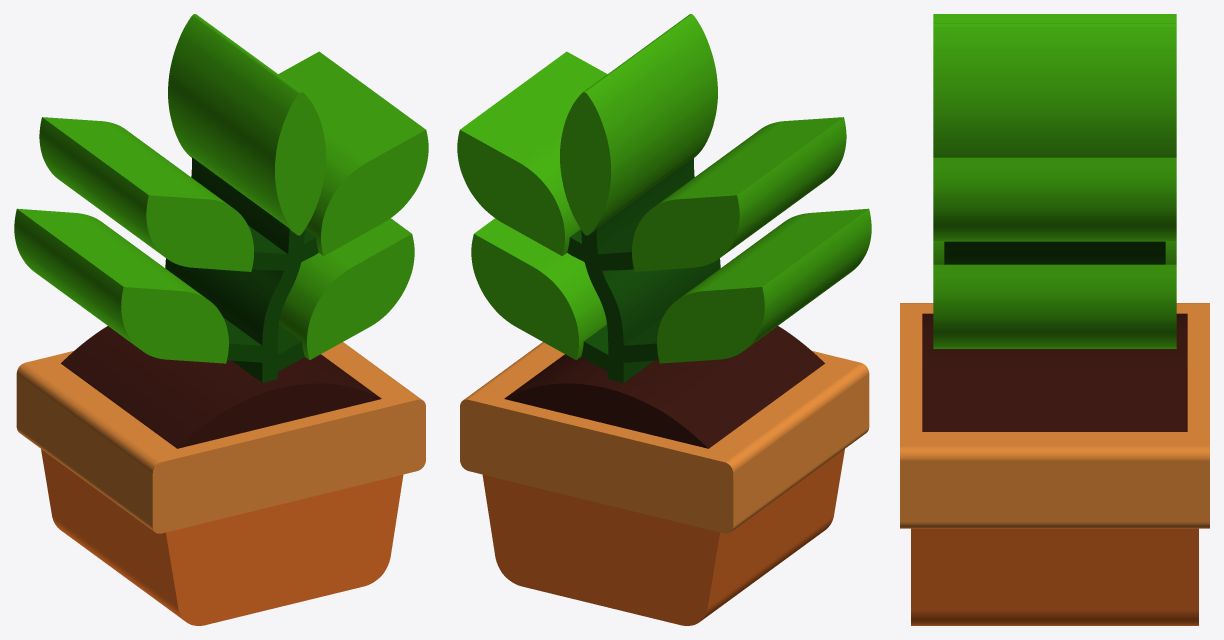
Rendered from U+1FAB4.obj.
3 views of the same model, side by side, from view 1: azimuth 30°, elevation 25°; view 2: azimuth 150°, elevation 25°; view 3: azimuth 270°, elevation 25° (orthographic). The views are drawn at different scales.
Visible parts, largest first — view 1: U+1FAB4_layer01_obj00, U+1FAB4_layer04_obj00, U+1FAB4_layer03_obj00, U+1FAB4_layer02_obj00, U+1FAB4_layer00_obj00; view 2: U+1FAB4_layer01_obj00, U+1FAB4_layer04_obj00, U+1FAB4_layer03_obj00, U+1FAB4_layer02_obj00, U+1FAB4_layer00_obj00; view 3: U+1FAB4_layer01_obj00, U+1FAB4_layer04_obj00, U+1FAB4_layer03_obj00, U+1FAB4_layer02_obj00, U+1FAB4_layer00_obj00.
Part boxes in pixels (bbox=[...]): U+1FAB4_layer01_obj00: bbox=[14, 14, 428, 363]; U+1FAB4_layer04_obj00: bbox=[16, 342, 425, 533]; U+1FAB4_layer03_obj00: bbox=[41, 449, 403, 625]; U+1FAB4_layer02_obj00: bbox=[61, 326, 381, 448]; U+1FAB4_layer00_obj00: bbox=[165, 157, 318, 382]; U+1FAB4_layer01_obj00: bbox=[457, 14, 871, 363]; U+1FAB4_layer04_obj00: bbox=[460, 342, 869, 533]; U+1FAB4_layer03_obj00: bbox=[482, 449, 844, 625]; U+1FAB4_layer02_obj00: bbox=[504, 326, 824, 448]; U+1FAB4_layer00_obj00: bbox=[567, 157, 720, 382]; U+1FAB4_layer01_obj00: bbox=[933, 14, 1176, 348]; U+1FAB4_layer04_obj00: bbox=[900, 303, 1209, 528]; U+1FAB4_layer03_obj00: bbox=[911, 528, 1198, 625]; U+1FAB4_layer02_obj00: bbox=[922, 313, 1187, 431]; U+1FAB4_layer00_obj00: bbox=[944, 241, 1165, 264].
Bounding box in the file's own units: 0.3655 × 0.5677 × 0.28.
